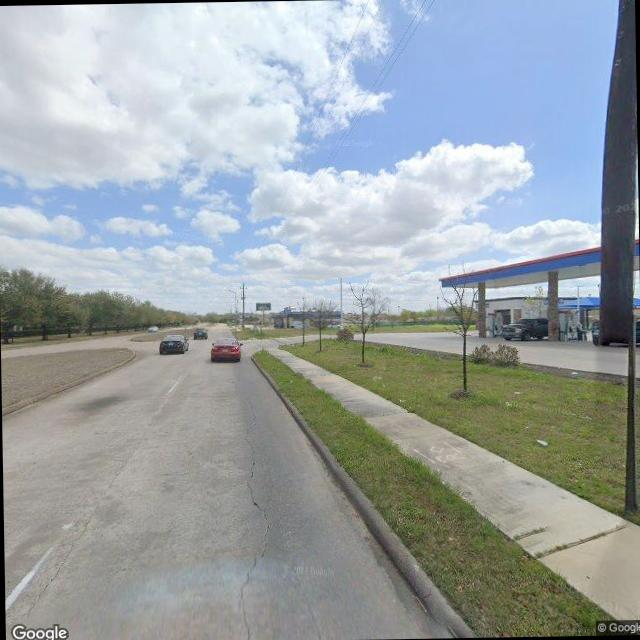pothole: (221, 400, 275, 640)
